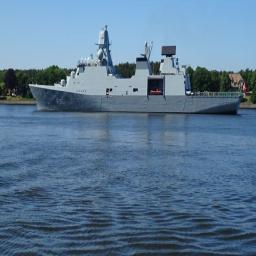Fragata: (29, 22, 245, 116)
